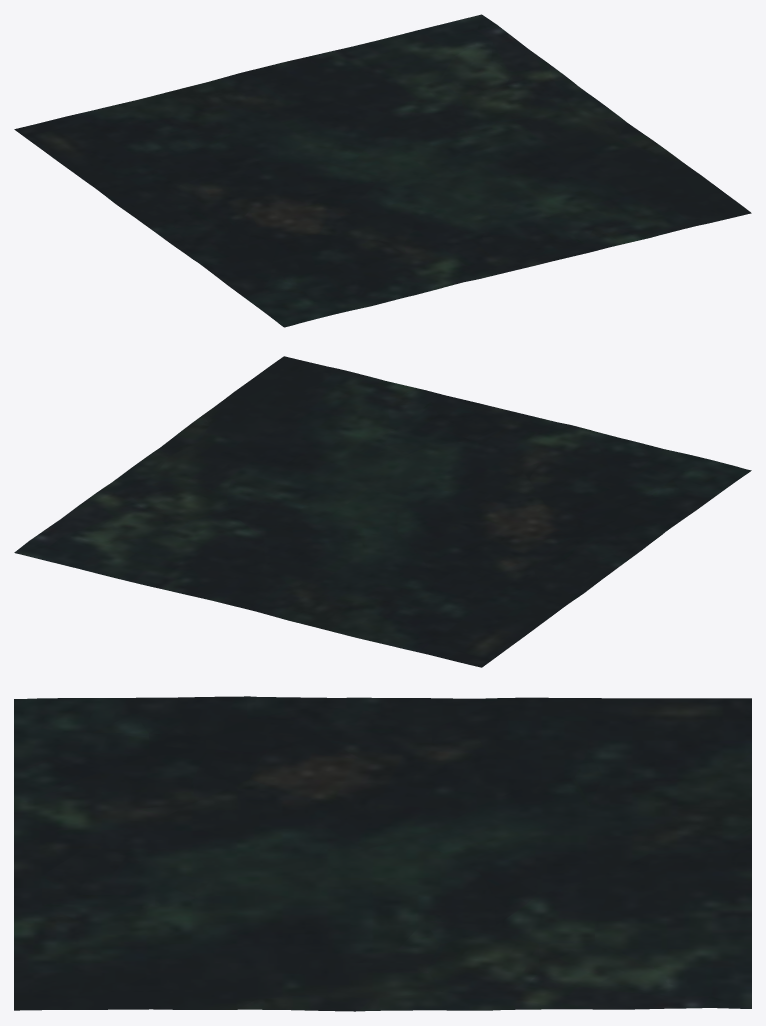
3 views of the same model, one above another, from view 1: azimuth 30°, elevation 25°; view 2: azimuth 150°, elevation 25°; view 3: azimuth 270°, elevation 25° (orthographic). The views are drawn at different scales.
Size of the model in its own units: 52.22 by 0.2997 by 52.22.
Materials: 3 (3 with a texture image).
